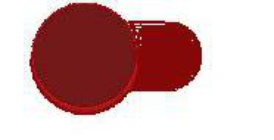Switch: (1, 1, 273, 139)
